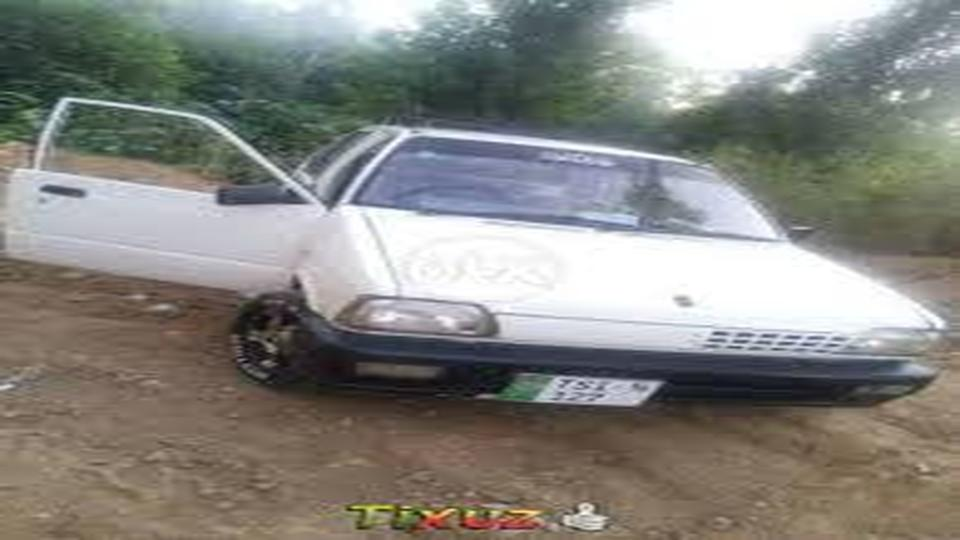NumberPlate: (506, 366, 659, 417)
